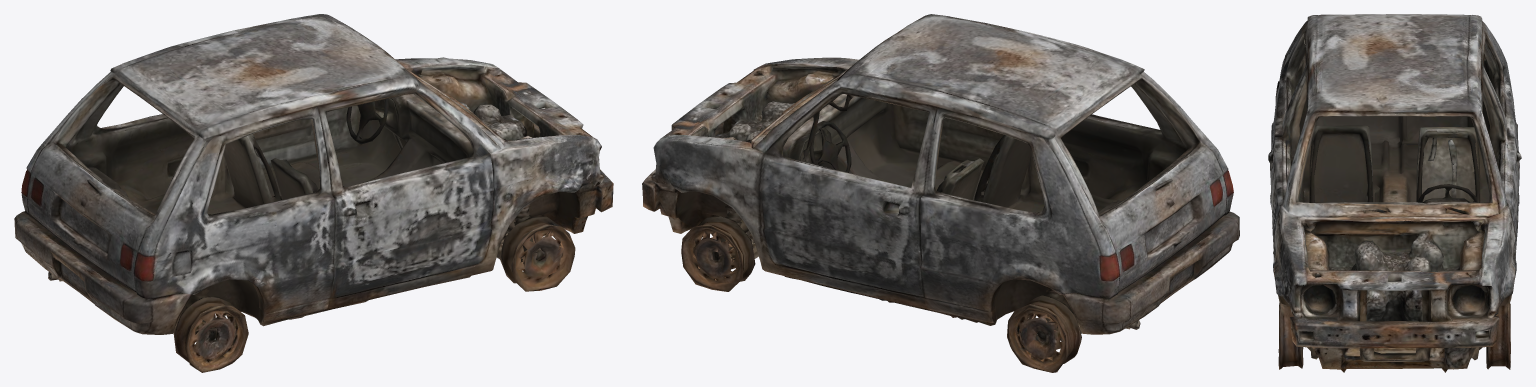
The model's file is car_wreck.glb.
3 views of the same model, side by side, from view 1: azimuth 30°, elevation 25°; view 2: azimuth 150°, elevation 25°; view 3: azimuth 270°, elevation 25° (orthographic). The views are drawn at different scales.
Visible parts, largest first — view 1: tripo_node_8129b2ea-b2c1-4c64-baf2-d5af0fc2d0df; view 2: tripo_node_8129b2ea-b2c1-4c64-baf2-d5af0fc2d0df; view 3: tripo_node_8129b2ea-b2c1-4c64-baf2-d5af0fc2d0df.
Boxes of the visible parts, x1,y1,x2,y2 form: tripo_node_8129b2ea-b2c1-4c64-baf2-d5af0fc2d0df: (14,14,613,372); tripo_node_8129b2ea-b2c1-4c64-baf2-d5af0fc2d0df: (642,14,1239,372); tripo_node_8129b2ea-b2c1-4c64-baf2-d5af0fc2d0df: (1268,14,1521,372).
Bounding box in the file's own units: 3.22 × 1.45 × 1.54.
1 material, 1 textured.
